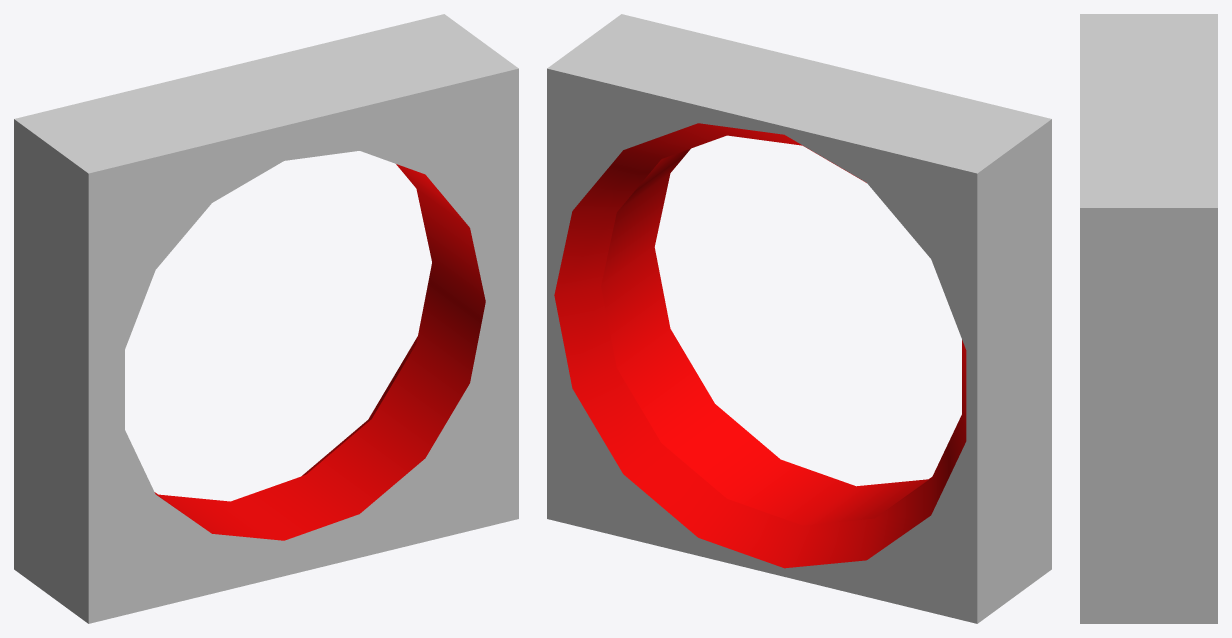
The model's file is Hole 3.fbx.
The picture shows the model from 3 angles, left to right: view 1: azimuth 30°, elevation 25°; view 2: azimuth 150°, elevation 25°; view 3: azimuth 270°, elevation 25°; orthographic projection. The views are drawn at different scales.
Parts seen in each view (by area): view 1: Hole; view 2: Hole; view 3: Hole.
Part boxes in pixels (x1,y1,x2,y2): Hole: (14, 14, 518, 623); Hole: (547, 14, 1051, 623); Hole: (1080, 14, 1217, 623).
Size of the model in its own units: 10 by 10 by 3.
